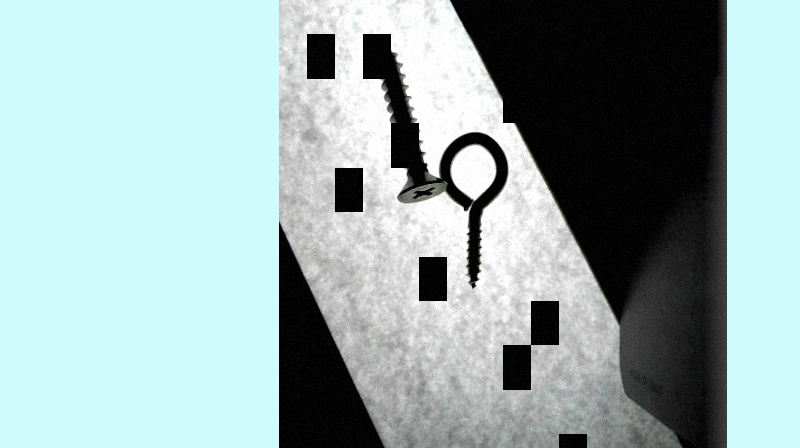O001: (437, 127, 510, 290)
S001: (374, 38, 447, 204)
